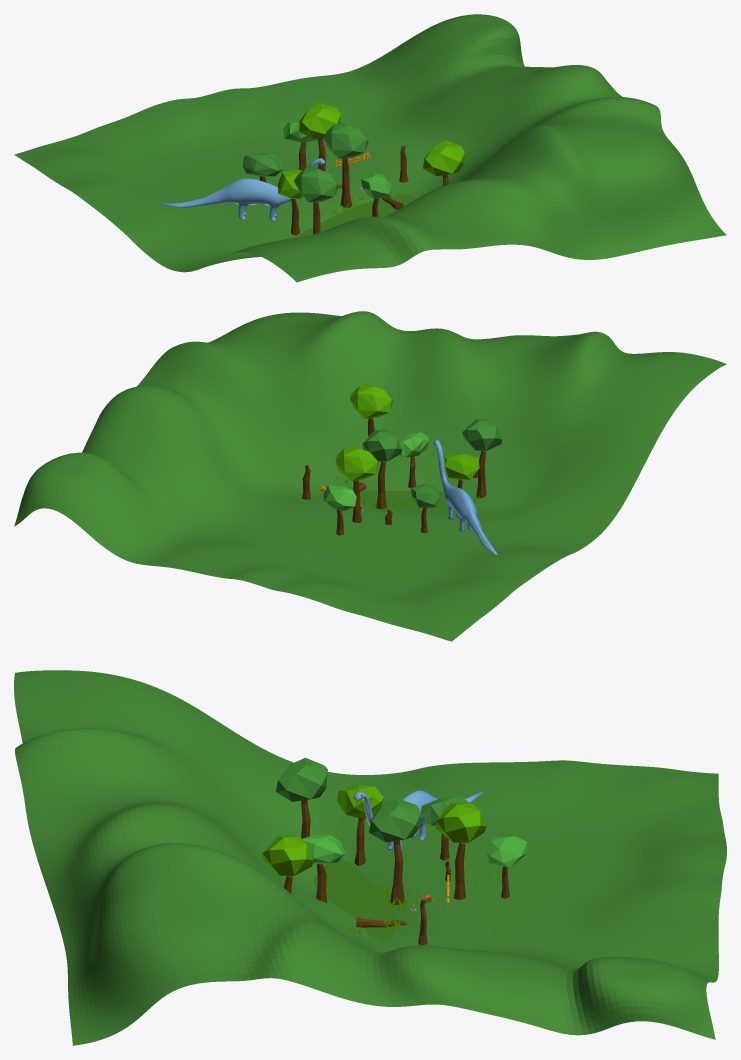
The picture shows the model from 3 angles, top to bottom: view 1: azimuth 30°, elevation 25°; view 2: azimuth 150°, elevation 25°; view 3: azimuth 270°, elevation 25°; orthographic projection. The views are drawn at different scales.
Parts seen in each view (by area): view 1: Grid, Symmetry.1, Tron, Feuilles002, Tron006, Feuilles007, Box001, Tron005, Trees, Tron012, Feuilles004; view 2: Grid, Symmetry.1, Tron006, Feuilles002, Tron, Feuilles007, Box001, Feuilles004, Trees, Tron012, Tron005; view 3: Grid, Box001, Tron, Tron006, Feuilles002, Feuilles007, Trees, Tron012, Feuilles004, Symmetry.1, Tron005.
Part boxes in pixels (bbox=[...]): Grid: bbox=[14, 14, 726, 282]; Symmetry.1: bbox=[157, 158, 325, 221]; Tron: bbox=[323, 122, 368, 207]; Feuilles002: bbox=[294, 166, 338, 234]; Tron006: bbox=[299, 102, 340, 171]; Feuilles007: bbox=[423, 140, 464, 185]; Box001: bbox=[298, 194, 412, 237]; Tron005: bbox=[243, 152, 283, 182]; Trees: bbox=[277, 169, 302, 235]; Tron012: bbox=[360, 173, 391, 216]; Feuilles004: bbox=[283, 120, 317, 170]; Grid: bbox=[14, 311, 726, 641]; Symmetry.1: bbox=[433, 440, 497, 555]; Tron006: bbox=[335, 446, 378, 522]; Feuilles002: bbox=[462, 419, 501, 498]; Tron: bbox=[362, 430, 402, 509]; Feuilles007: bbox=[349, 383, 392, 436]; Box001: bbox=[352, 489, 455, 511]; Feuilles004: bbox=[323, 485, 356, 535]; Trees: bbox=[444, 454, 479, 488]; Tron012: bbox=[398, 432, 428, 488]; Tron005: bbox=[411, 483, 439, 533]; Grid: bbox=[14, 670, 726, 1045]; Box001: bbox=[313, 860, 396, 940]; Tron: bbox=[369, 798, 420, 904]; Tron006: bbox=[435, 802, 486, 899]; Feuilles002: bbox=[276, 757, 327, 838]; Feuilles007: bbox=[262, 835, 313, 893]; Trees: bbox=[337, 785, 383, 865]; Tron012: bbox=[302, 834, 345, 902]; Feuilles004: bbox=[486, 836, 527, 898]; Symmetry.1: bbox=[353, 790, 483, 852]; Tron005: bbox=[420, 795, 468, 860].
Size of what is drawn, in the model's own units: 63.47 by 13.94 by 66.3.
17 materials, 1 textured.
